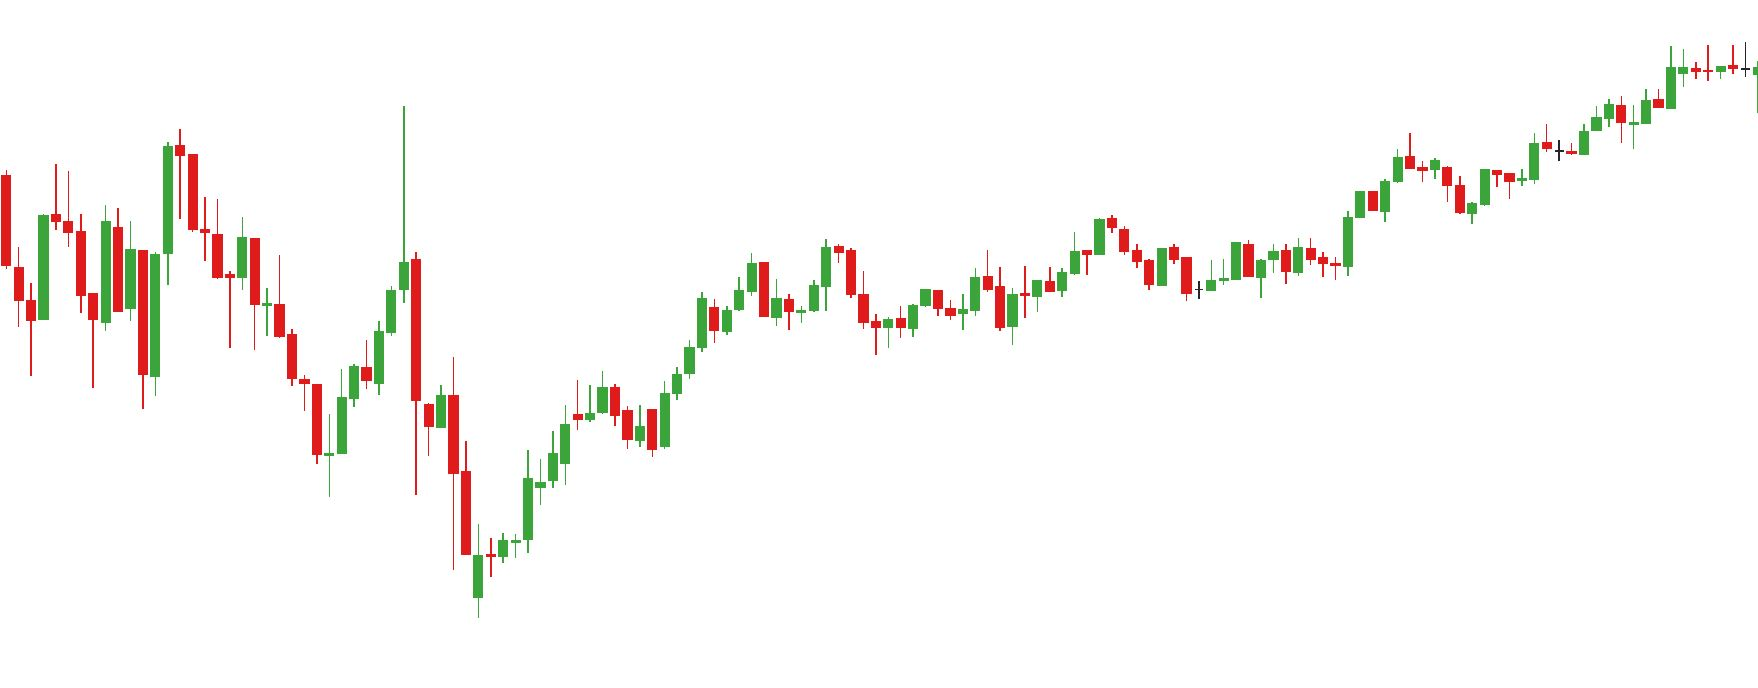buy: (769, 282, 892, 362), (955, 287, 1023, 342)
sell: (235, 100, 410, 354)
